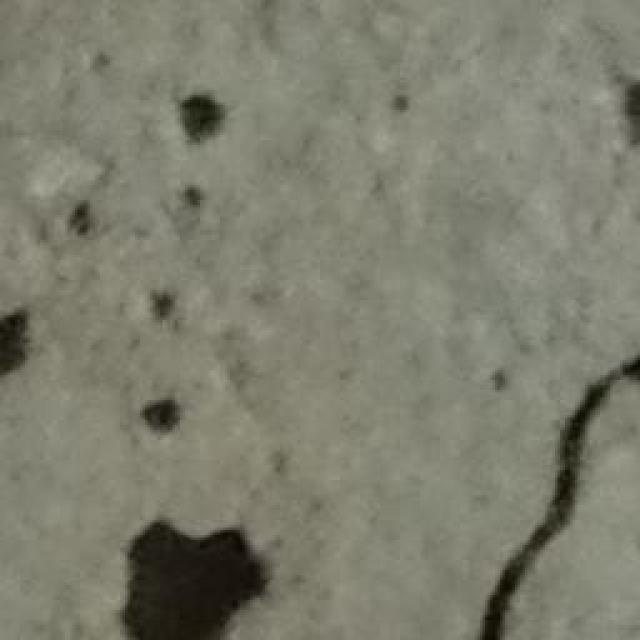Diagonal: (477, 366, 640, 640)
Rippled: (0, 43, 298, 639)
